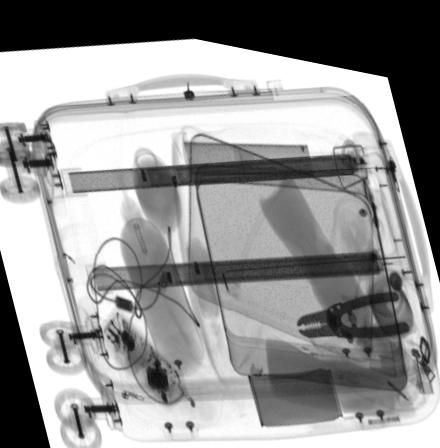Pliers: (295, 275, 408, 324)
